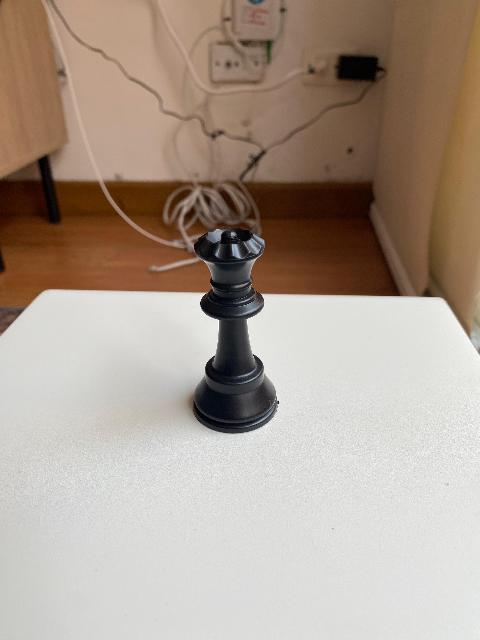black-queen: (190, 225, 280, 433)
